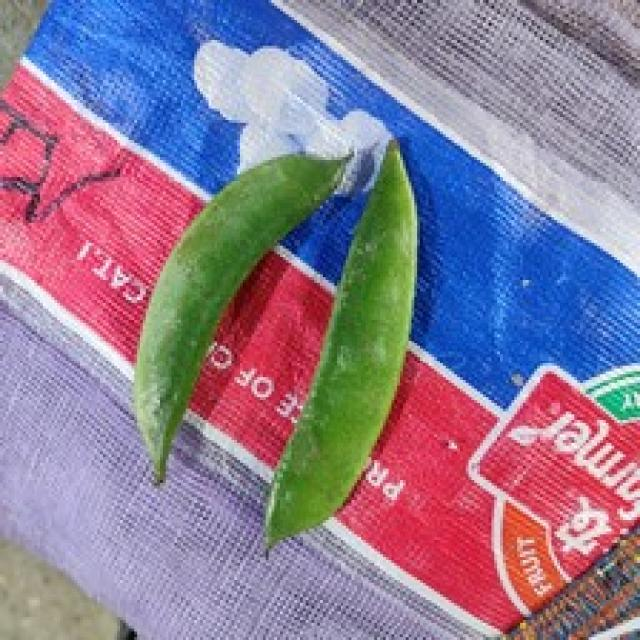Bean: (128, 148, 352, 483), (260, 135, 417, 554)
